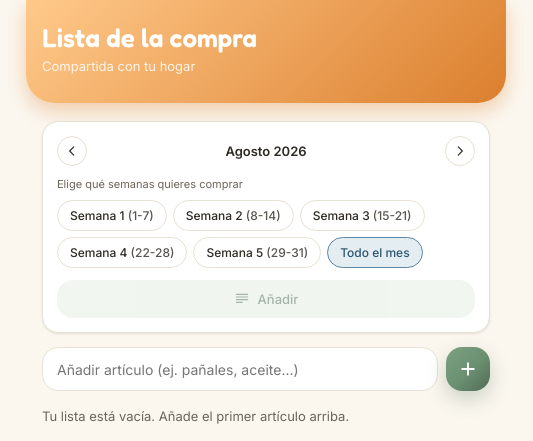
Scenario: ShoppingList — selector de semanas del mes › seleccionar una semana habilita el botón de añadir
Click the button "Semana 1 (1-7)". click: (112, 216)
box: x1=57 y1=200 x2=167 y2=231
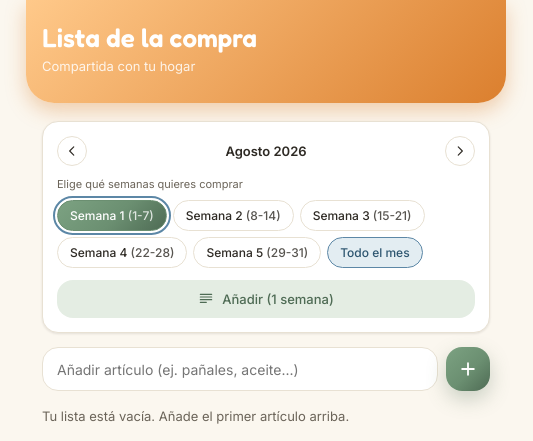
Now the button "Añadir (1 semana)" is enabled, box x1=57 y1=280 x2=475 y2=318
